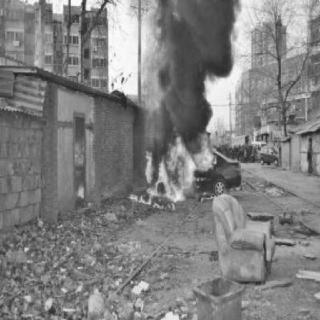Fire: (129, 123, 217, 213), (67, 119, 91, 211)
